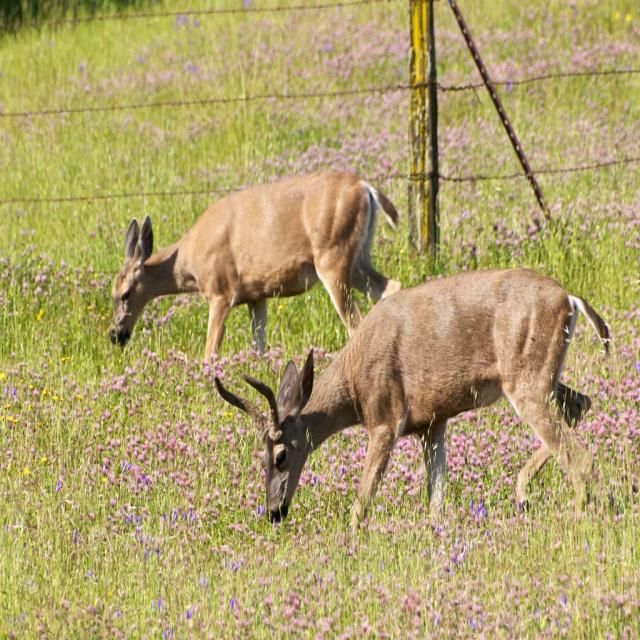Deer: (214, 263, 612, 521), (108, 167, 402, 370)
